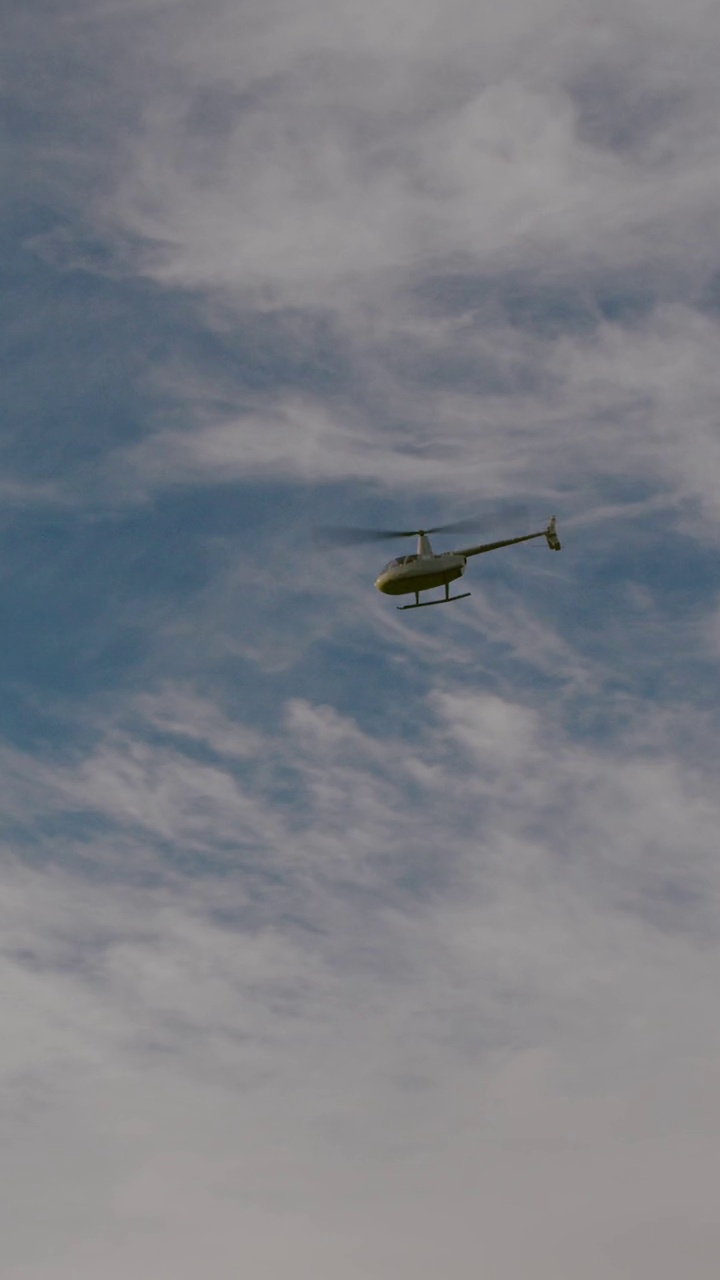heli: (315, 510, 562, 610)
